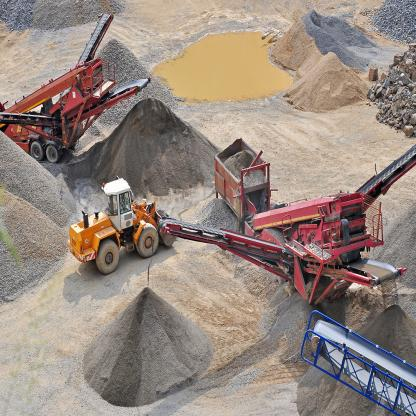bull_dozer/loader/grader: (54, 163, 182, 277)
